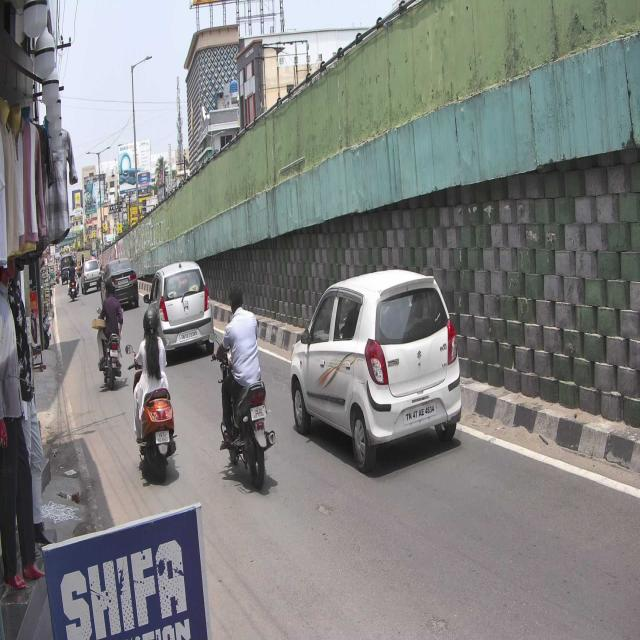single_rider: (208, 285, 278, 489), (127, 308, 180, 489)
